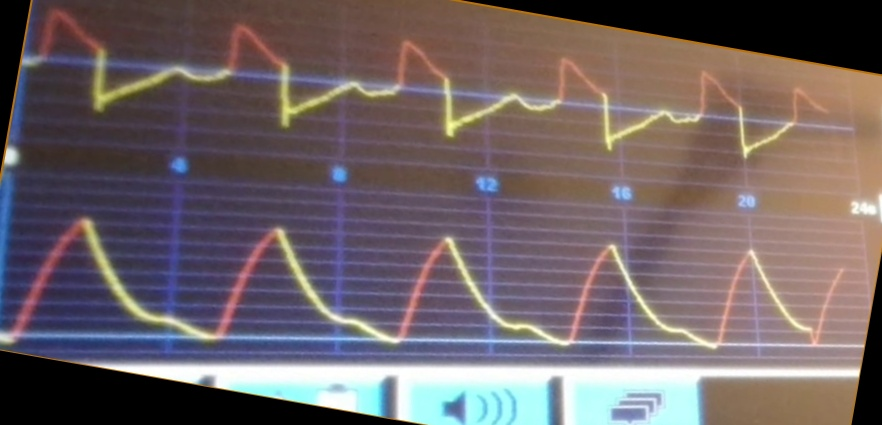Ineffective_effort Flow: (31, 5, 825, 156)
Ineffective_effort Volume: (5, 215, 841, 355)
